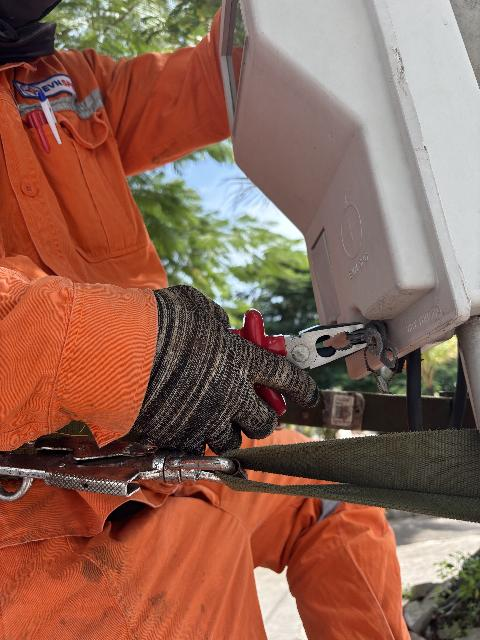gloves: (90, 253, 323, 465)
